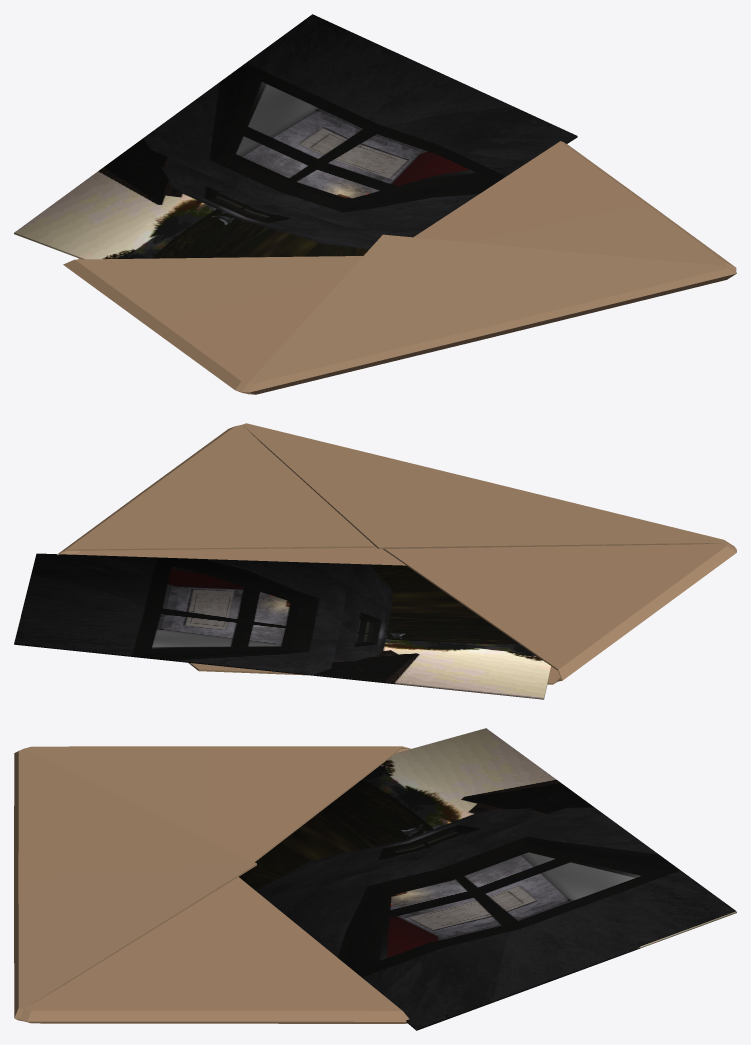
Rendered from card.glb.
3 renders of one model, top to bottom at view 1: azimuth 30°, elevation 25°; view 2: azimuth 150°, elevation 25°; view 3: azimuth 270°, elevation 25°, orthographic. The views are drawn at different scales.
Parts seen in each view (by area): view 1: Plane.001, Plane; view 2: Plane, Plane.001; view 3: Plane, Plane.001.
Part boxes in pixels (bbox=[...]): Plane.001: bbox=[14, 14, 577, 259]; Plane: bbox=[63, 141, 736, 394]; Plane: bbox=[57, 423, 736, 684]; Plane.001: bbox=[14, 553, 551, 699]; Plane: bbox=[14, 746, 410, 1023]; Plane.001: bbox=[239, 728, 736, 1030].
Size of the model in its own units: 3.58 by 0.3436 by 3.78.
2 materials, 1 textured.
